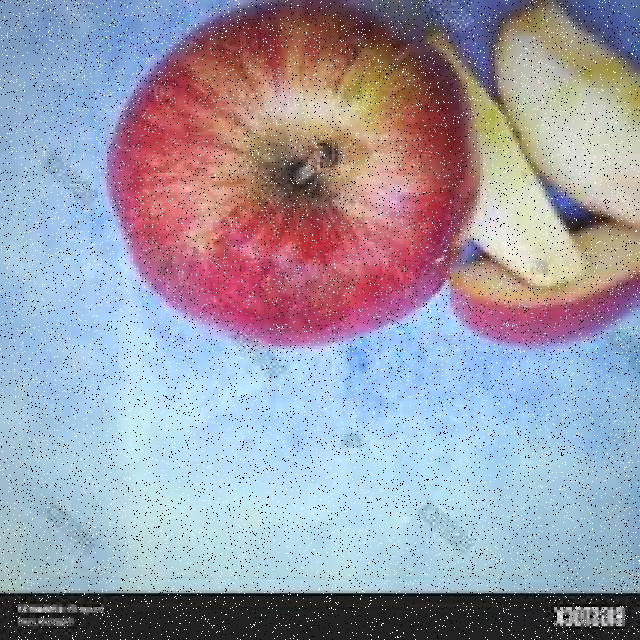Apple: (108, 6, 473, 347), (493, 5, 638, 226), (454, 231, 632, 362)
